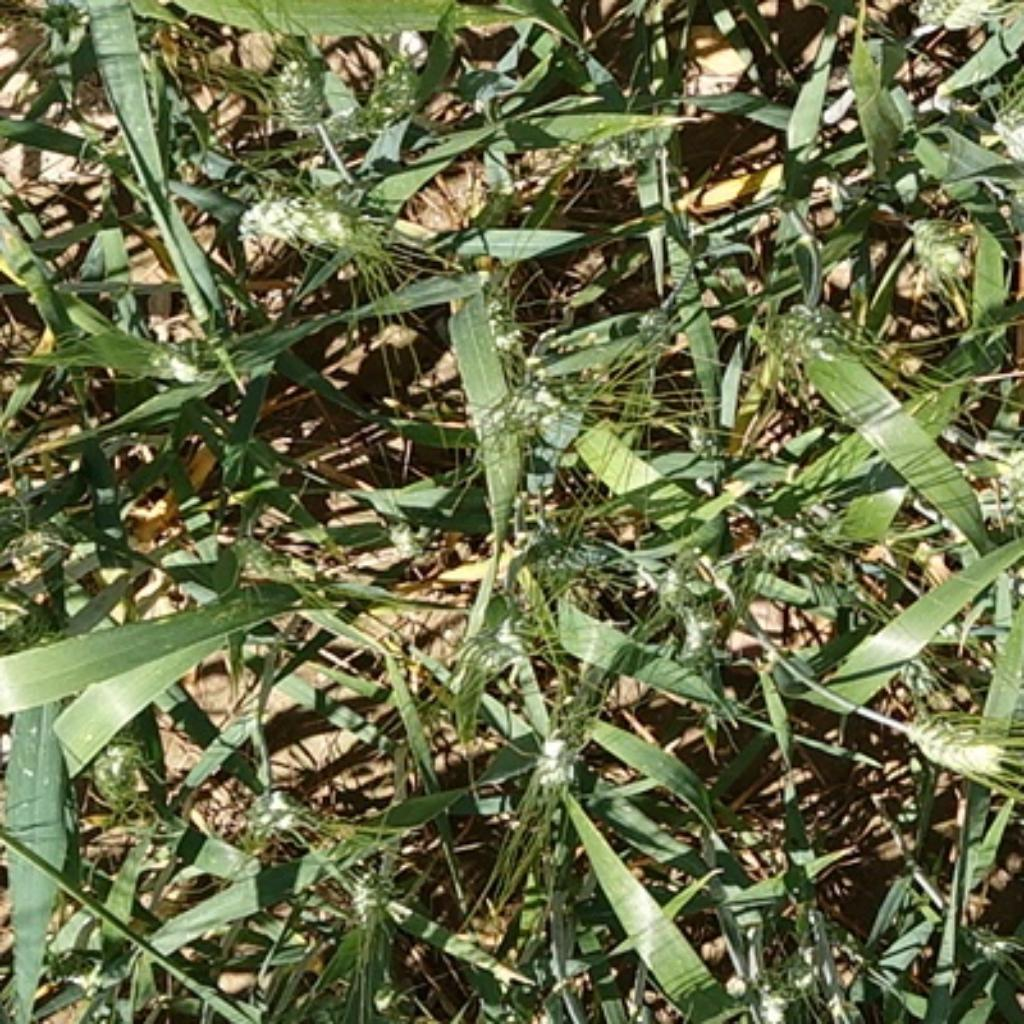0-0: (757, 281, 883, 371), (462, 359, 583, 451), (901, 706, 1024, 796), (231, 184, 374, 260), (734, 483, 852, 573), (512, 499, 616, 591), (337, 42, 424, 147), (714, 939, 832, 1016), (437, 609, 545, 693), (207, 765, 314, 844), (130, 324, 232, 404), (647, 542, 729, 632), (266, 43, 343, 133), (217, 519, 320, 583), (76, 721, 153, 801), (939, 899, 1021, 972), (335, 849, 407, 931), (522, 709, 588, 796), (475, 268, 533, 362), (901, 202, 970, 281), (975, 430, 1024, 524), (906, 0, 1001, 39)
